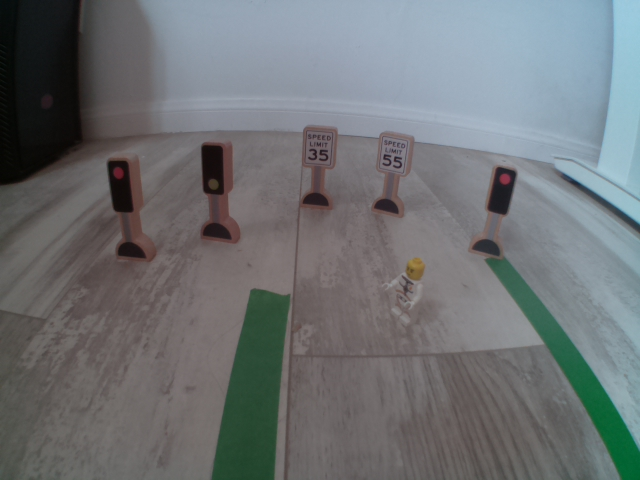Green Traffic Light: (199, 141, 228, 195)
Red Traffic Light: (104, 154, 143, 215), (487, 164, 518, 219)
Speed Limit 35: (301, 125, 338, 167)
Speed Limit 55: (378, 132, 409, 177)
person: (389, 254, 427, 333)
